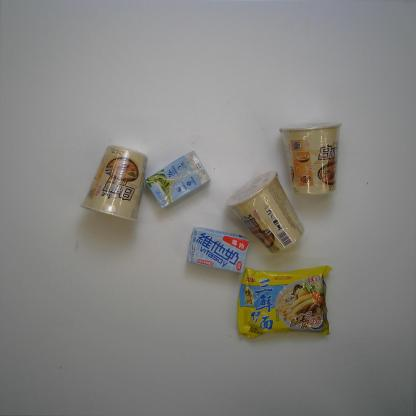Instant Noodles: (236, 265, 331, 339), (224, 168, 304, 255), (80, 144, 149, 222), (278, 121, 343, 196)
Milk: (144, 150, 211, 210), (186, 226, 250, 274)
